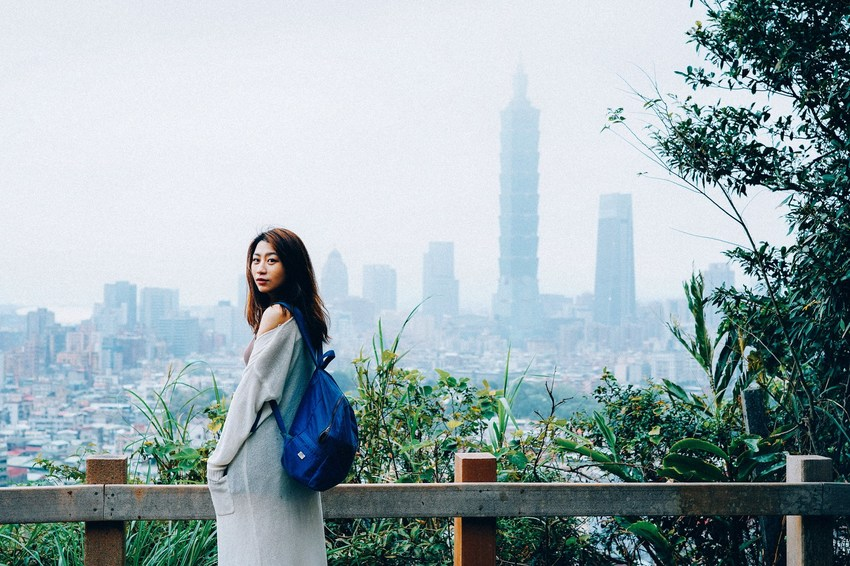people: (203, 230, 360, 566)
